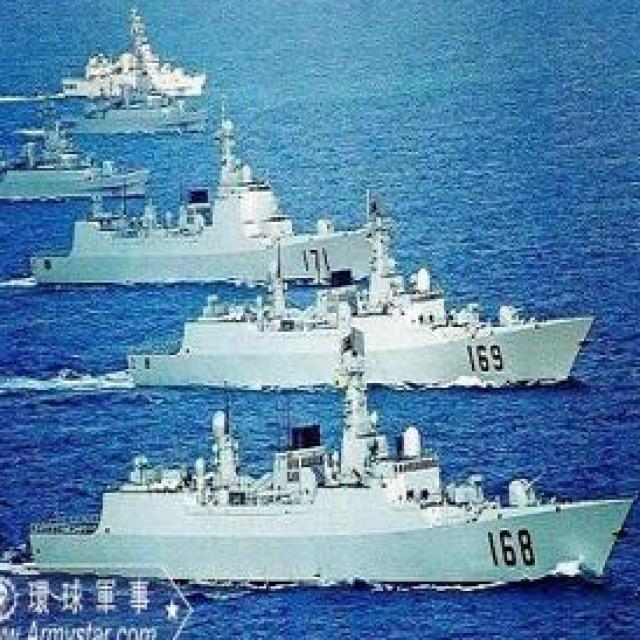navalvessels: (30, 384, 638, 582), (118, 243, 589, 386), (22, 143, 381, 279), (60, 16, 210, 97), (0, 112, 140, 196), (72, 66, 213, 133)
